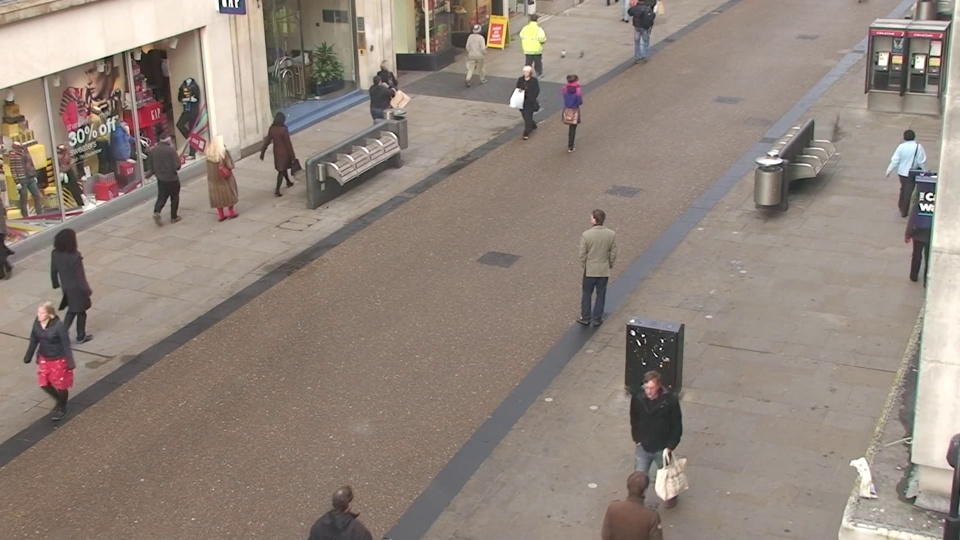pedestrian: (21, 295, 87, 436), (624, 366, 678, 526), (45, 225, 102, 347), (607, 458, 667, 540), (580, 203, 618, 323), (314, 472, 381, 540), (883, 125, 928, 226), (133, 133, 175, 230), (200, 130, 239, 227), (264, 108, 299, 200), (364, 71, 394, 154), (558, 70, 586, 153), (371, 58, 400, 138), (514, 63, 542, 144), (465, 22, 490, 91), (521, 11, 545, 78)
